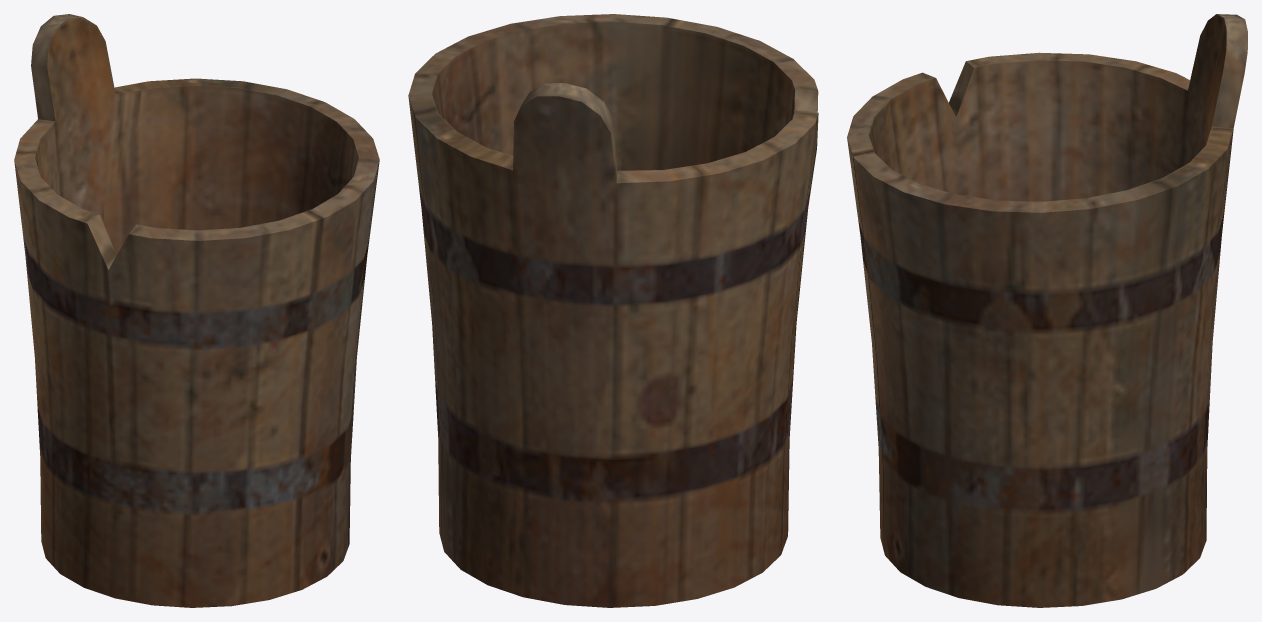
Rendered from village_bucket_02.fbx.
3 views of the same model, side by side, from view 1: azimuth 30°, elevation 25°; view 2: azimuth 150°, elevation 25°; view 3: azimuth 270°, elevation 25° (orthographic). The views are drawn at different scales.
Visible parts, largest first — view 1: village_bucket_02; view 2: village_bucket_02; view 3: village_bucket_02.
Boxes of the visible parts, <box> form: village_bucket_02: <box>14,14,379,607</box>; village_bucket_02: <box>408,14,818,607</box>; village_bucket_02: <box>847,14,1247,607</box>.
Size of the model in its own units: 40.98 by 58.37 by 42.48.
